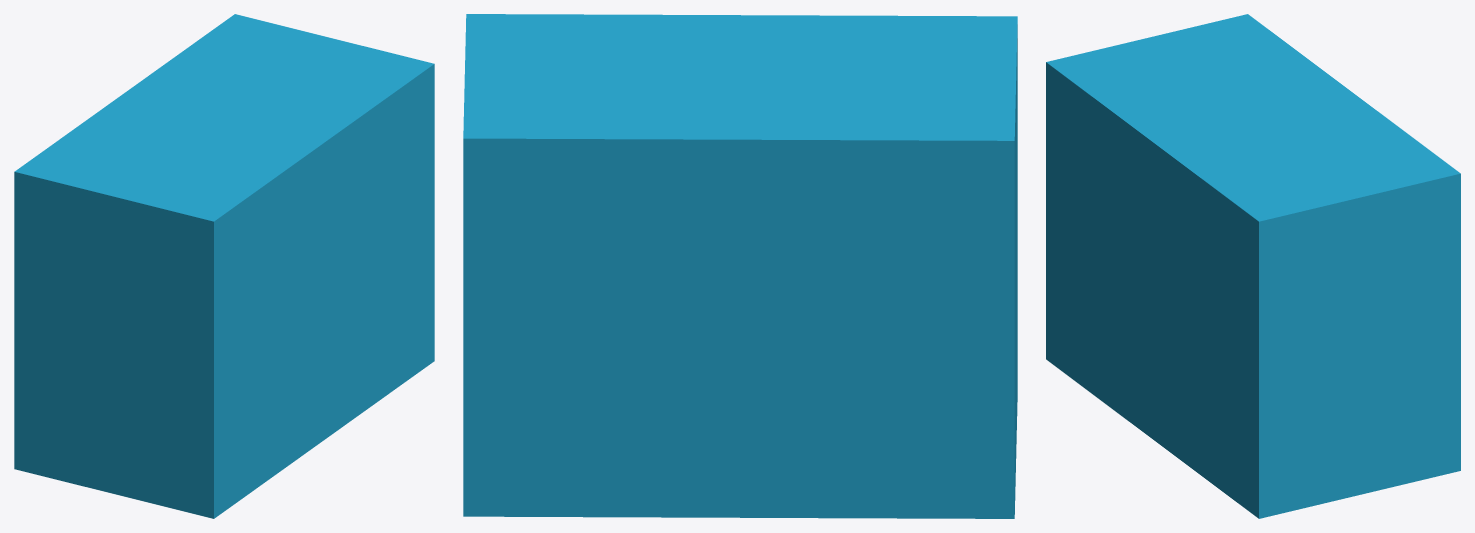
3 views of the same model, side by side, from view 1: azimuth 30°, elevation 25°; view 2: azimuth 150°, elevation 25°; view 3: azimuth 270°, elevation 25° (orthographic). The views are drawn at different scales.
Visible parts, largest first — view 1: Visual_Cube; view 2: Visual_Cube; view 3: Visual_Cube.
Boxes of the visible parts, x1,y1,x2,y2 form: Visual_Cube: (14, 14, 434, 518); Visual_Cube: (463, 14, 1017, 518); Visual_Cube: (1046, 14, 1460, 518).
Bounding box in the file's own units: 132 × 88.3 × 112.
